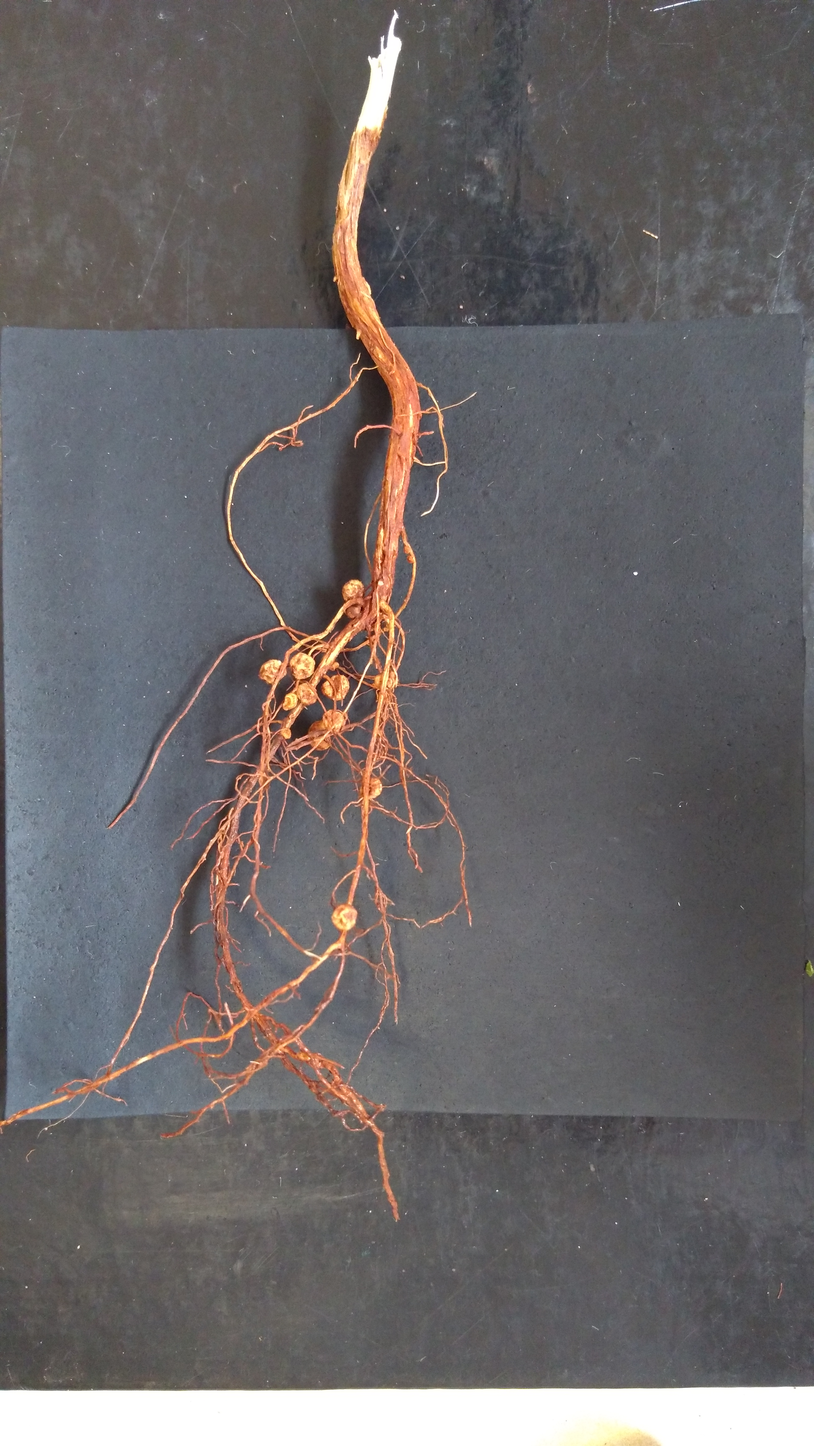nodule: (320, 673, 351, 702), (330, 902, 359, 932), (257, 657, 288, 685), (306, 719, 331, 752), (288, 652, 316, 680), (321, 708, 347, 733), (341, 577, 365, 602), (358, 776, 383, 799), (297, 682, 319, 706), (373, 670, 397, 691), (374, 612, 391, 636), (281, 692, 298, 712), (346, 603, 362, 620), (279, 728, 293, 739), (329, 661, 340, 672), (406, 555, 414, 564), (403, 546, 411, 554)
